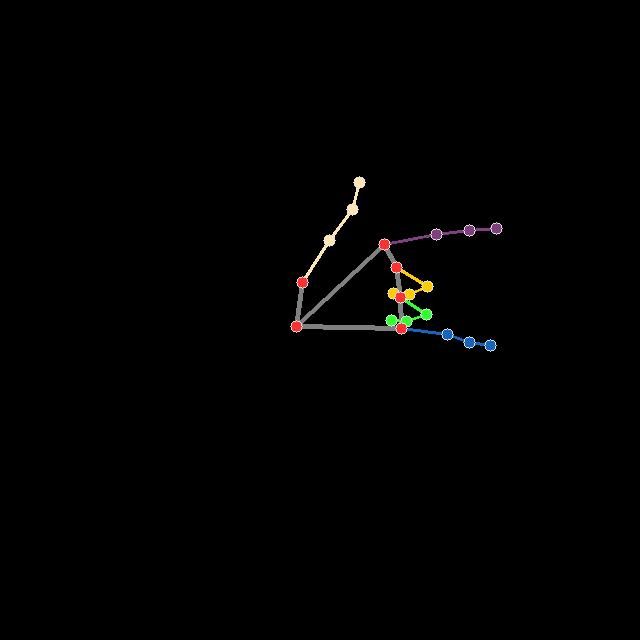spiderman: (292, 174, 502, 350)
